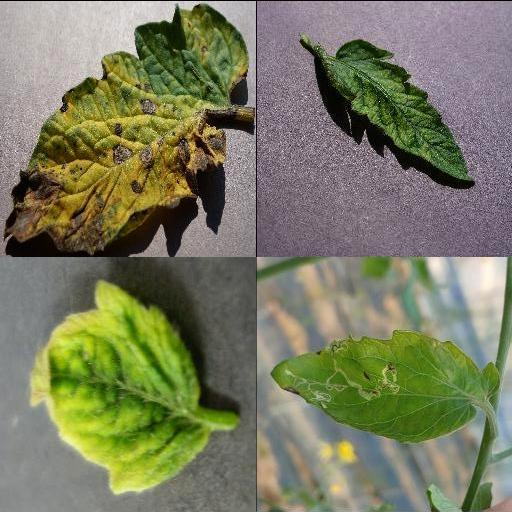Early Blight: (4, 3, 250, 251)
Leaf Miner: (270, 329, 500, 443)
Mosaic Virus: (324, 39, 478, 183)
Yellow Leaf Curl Virus: (30, 278, 212, 494)
